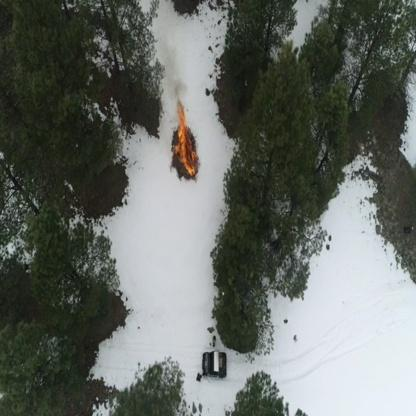Fire: (172, 98, 199, 177)
